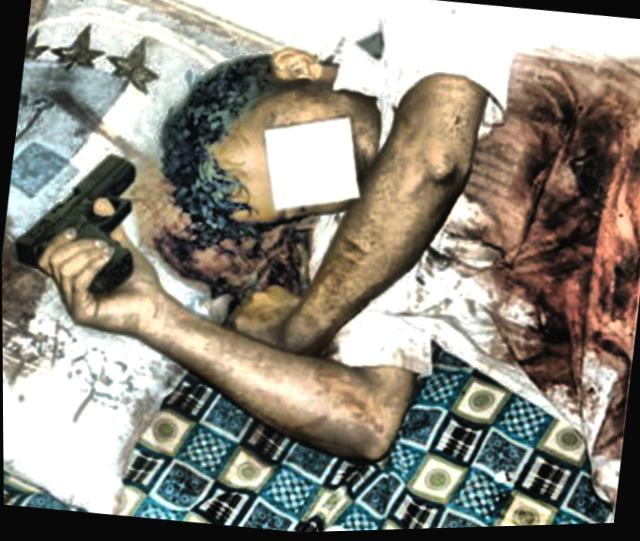pistol: (8, 139, 144, 302)
